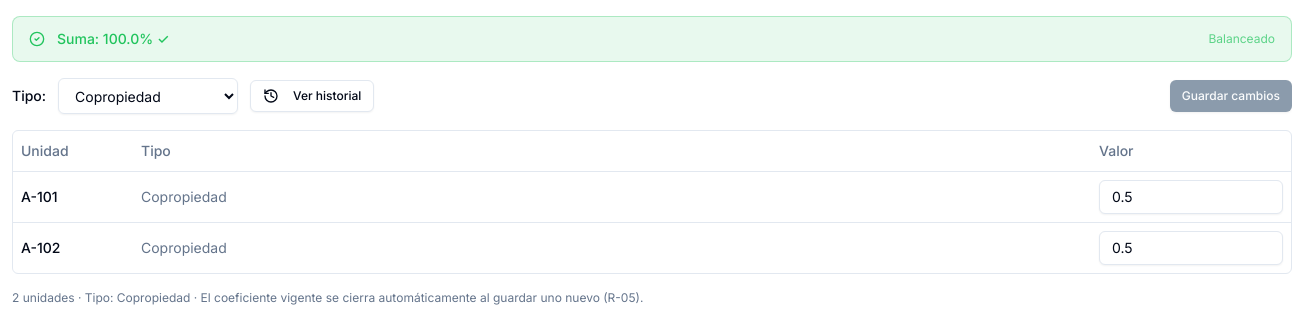
Test case: CoeficientesTab (PROPIEDADES-B09) › editar un valor actualiza la barra de suma en tiempo real y habilita el botón guardar
Expected: the text "Suma: 100.0% ✓" is shown, [57,30,169,47]
Replace the text in the field named "Coeficiente A-101 - Copropiedad" with "0.3" at (1191,196), box [1099,180,1283,214]
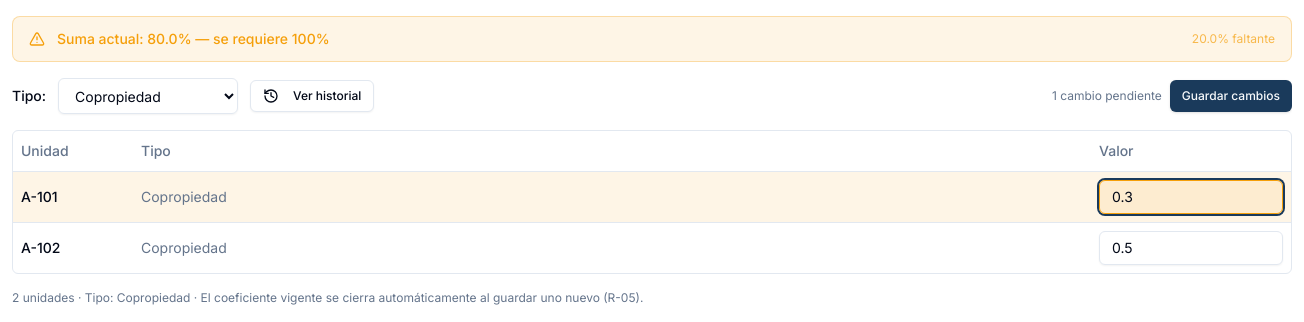
Result: the button "Guardar cambios" is enabled at [1170,80,1292,112]
Result: the text "Suma actual: 80.0% — se requiere 100%" is shown at [57,30,330,47]
